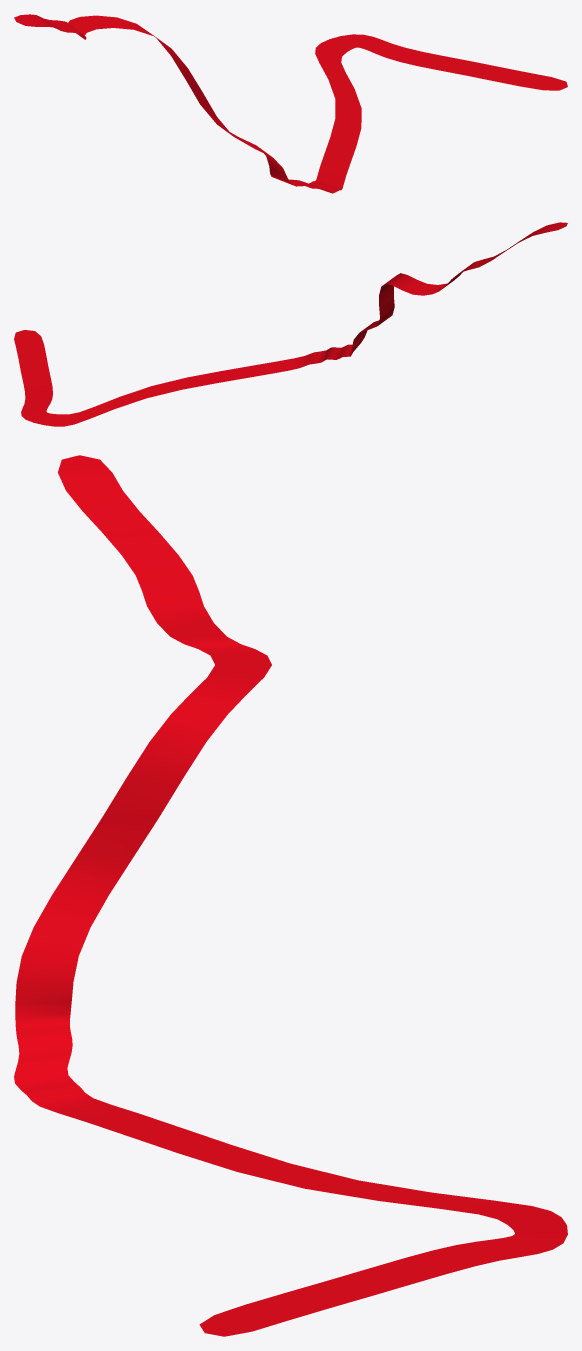
Rendered from hair1.fbx.
The picture shows the model from 3 angles, top to bottom: view 1: azimuth 30°, elevation 25°; view 2: azimuth 150°, elevation 25°; view 3: azimuth 270°, elevation 25°; orthographic projection. The views are drawn at different scales.
Parts seen in each view (by area): view 1: Plane.001; view 2: Plane.001; view 3: Plane.001.
Boxes of the visible parts, x1,y1,x2,y2 form: Plane.001: (14,14,567,193); Plane.001: (14,222,567,426); Plane.001: (14,455,567,1336).
Size of the model in its own units: 8854 by 3366 by 4268.
